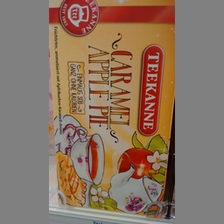tea: (49, 1, 174, 218)
